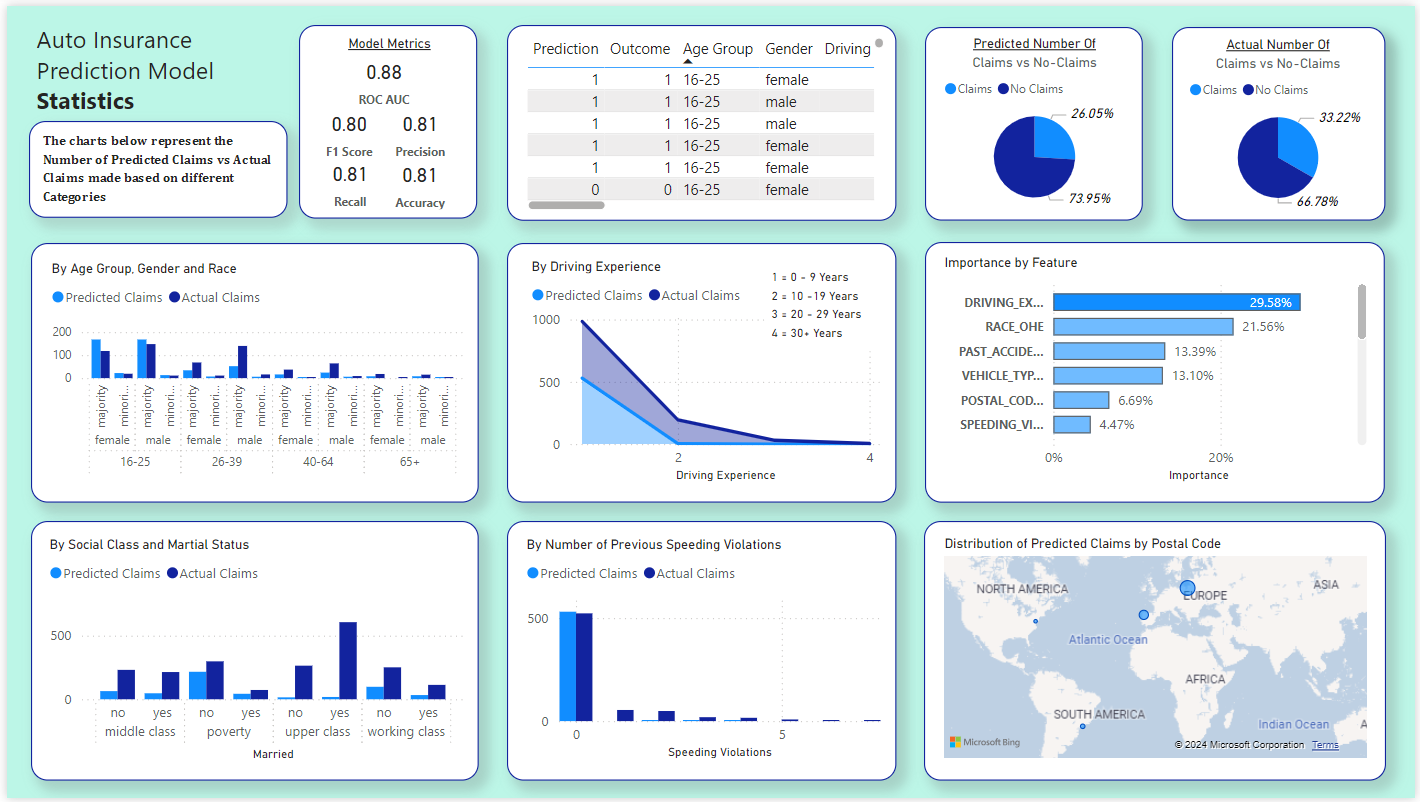

This screenshot's page, from the dashboard's own definition file:
{"tool":"powerbi","page":{"name":"Report","canvas":[1280,720],"ordinal":0},"visuals":[{"type":"shape","box":[20.3,104.9,234.6,88],"z":0},{"type":"shape","box":[454.5,16.9,354.1,178.2],"z":1000},{"type":"shape","box":[1059,19.2,194,175.9],"z":2000},{"type":"shape","box":[834.5,19.2,198.5,175.9],"z":3000},{"type":"shape","box":[454.5,215.4,354.1,235.7],"z":4000},{"type":"shape","box":[454.5,468,354.1,235.7],"z":5000},{"type":"shape","box":[21.4,215.4,407.1,235.7],"z":6000},{"type":"shape","box":[21.4,468,407.1,235.7],"z":7000},{"type":"shape","box":[265.8,17,161.9,175.9],"z":8000},{"type":"shape","box":[833.4,468,419.5,235.7],"z":9000},{"type":"shape","box":[834.5,214.3,418.4,236.8],"z":10000},{"type":"tableEx","fields":{"Values":["Sum(predictions table.prediction)","Sum(predictions table.OUTCOME)","predictions_table.AGE","predictions_table.GENDER","predictions_table.DRIVING_EXPERIENCE","predictions_table.PAST_ACCIDENTS","predictions_table.SPEEDING_VIOLATIONS","predictions_table.DUIS","predictions_table.ANNUAL_MILEAGE","predictions_table.EDUCATION","predictions_table.INCOME","predictions_table.CREDIT_SCORE"]},"box":[466.9,23.7,334.9,166.9],"z":11000},{"type":"pieChart","title":"Predicted Number Of","fields":{"Y":["predictions_table.Count_1_pred","predictions_table.Count_0_pred"]},"box":[846.9,27.1,173.7,163.5],"z":12000},{"type":"pieChart","title":"Actual Number Of ","fields":{"Y":["predictions.Count_1s","predictions.Count_0s"]},"box":[1070.2,28,170.9,162.9],"z":13000},{"type":"clusteredBarChart","title":"Importance by Feature","fields":{"Category":["feature importance.Feature"],"Y":["Divide(Sum(feature importance.Importance), ScopedEval(Sum(feature importance.Importance), []))"]},"box":[846.9,226.7,393.6,210.9],"z":14000},{"type":"clusteredColumnChart","title":"By Age Group, Gender and Race","fields":{"Category":["predictions_table.AGE","predictions_table.GENDER","predictions_table.RACE"],"Y":["Sum(predictions_table.prediction)","Sum(predictions_table.OUTCOME)"]},"box":[35,231.2,385.7,206.4],"z":15000},{"type":"map","title":"Distribution of Predicted Claims by Postal Code","fields":{"Size":["Sum(predictions_table.prediction)"],"Category":["predictions_table.POSTAL_CODE"]},"box":[847.3,481.8,393.6,207.3],"z":16000},{"type":"stackedAreaChart","title":"By Driving Experience","fields":{"Category":["predictions_table.DRIVING_EXPERIENCE"],"Y":["Sum(predictions_table.prediction)","Sum(predictions_table.OUTCOME)"]},"box":[471.8,230,327.3,207.3],"z":17000},{"type":"clusteredColumnChart","title":"By Social Class and Martial Status","fields":{"Category":["predictions_table.INCOME","predictions_table.MARRIED"],"Y":["Sum(predictions_table.prediction)","CountNonNull(predictions_table.OUTCOME)"]},"box":[33.8,482.7,386.8,207.5],"z":18000},{"type":"clusteredColumnChart","title":"By Number of Previous Speeding Violations","fields":{"Y":["Sum(predictions_table.prediction)","Sum(predictions_table.OUTCOME)"],"Category":["predictions_table.SPEEDING_VIOLATIONS"]},"box":[467.3,482.7,331.8,206.4],"z":19000},{"type":"card","fields":{"Values":["Sum(metrics.Accuracy)"]},"box":[335.7,132.9,79.9,57],"z":20000},{"type":"card","fields":{"Values":["Sum(metrics.Precision)"]},"box":[337.7,86.9,74.9,55],"z":21000},{"type":"card","fields":{"Values":["Sum(metrics.Recall)"]},"box":[268.8,132.9,85.9,55],"z":22000},{"type":"card","fields":{"Values":["Sum(metrics.F1_Score)"]},"box":[273.8,86.9,74.9,55],"z":23000},{"type":"card","fields":{"Values":["Sum(metrics.ROC_AUC)"]},"box":[272.8,37,139.9,61],"z":24000},{"type":"textbox","box":[21.4,10.1,244.7,95.9],"z":25000},{"type":"textbox","box":[27.3,107.3,220,78.2],"z":26000},{"type":"textbox","box":[297.8,19,98.9,27],"z":27000},{"type":"textbox","box":[690,230.9,109.1,82.7],"z":28000}]}

Visuals, with their boxes in screenshot pixels (x1, y1, x2, y2), scaled from the page's 1280x720 canvas onto the 1420x802 screenshot:
shape: {"x1": 23, "y1": 117, "x2": 283, "y2": 215}
shape: {"x1": 504, "y1": 19, "x2": 897, "y2": 217}
shape: {"x1": 1175, "y1": 21, "x2": 1390, "y2": 217}
shape: {"x1": 926, "y1": 21, "x2": 1146, "y2": 217}
shape: {"x1": 504, "y1": 240, "x2": 897, "y2": 502}
shape: {"x1": 504, "y1": 521, "x2": 897, "y2": 784}
shape: {"x1": 24, "y1": 240, "x2": 475, "y2": 502}
shape: {"x1": 24, "y1": 521, "x2": 475, "y2": 784}
shape: {"x1": 295, "y1": 19, "x2": 474, "y2": 215}
shape: {"x1": 925, "y1": 521, "x2": 1390, "y2": 784}
shape: {"x1": 926, "y1": 239, "x2": 1390, "y2": 502}
tableEx - Sum(predictions table.prediction) x Sum(predictions table.OUTCOME): {"x1": 518, "y1": 26, "x2": 889, "y2": 212}
"Predicted Number Of" pieChart: {"x1": 940, "y1": 30, "x2": 1132, "y2": 212}
"Actual Number Of " pieChart: {"x1": 1187, "y1": 31, "x2": 1377, "y2": 213}
"Importance by Feature" clusteredBarChart: {"x1": 940, "y1": 253, "x2": 1376, "y2": 487}
"By Age Group, Gender and Race" clusteredColumnChart: {"x1": 39, "y1": 258, "x2": 467, "y2": 487}
"Distribution of Predicted Claims by Postal Code" map: {"x1": 940, "y1": 537, "x2": 1377, "y2": 768}
"By Driving Experience" stackedAreaChart: {"x1": 523, "y1": 256, "x2": 887, "y2": 487}
"By Social Class and Martial Status" clusteredColumnChart: {"x1": 37, "y1": 538, "x2": 467, "y2": 769}
"By Number of Previous Speeding Violations" clusteredColumnChart: {"x1": 518, "y1": 538, "x2": 887, "y2": 768}
card - Sum(metrics.Accuracy): {"x1": 372, "y1": 148, "x2": 461, "y2": 212}
card - Sum(metrics.Precision): {"x1": 375, "y1": 97, "x2": 458, "y2": 158}
card - Sum(metrics.Recall): {"x1": 298, "y1": 148, "x2": 393, "y2": 209}
card - Sum(metrics.F1_Score): {"x1": 304, "y1": 97, "x2": 387, "y2": 158}
card - Sum(metrics.ROC_AUC): {"x1": 303, "y1": 41, "x2": 458, "y2": 109}
textbox: {"x1": 24, "y1": 11, "x2": 295, "y2": 118}
textbox: {"x1": 30, "y1": 120, "x2": 274, "y2": 207}
textbox: {"x1": 330, "y1": 21, "x2": 440, "y2": 51}
textbox: {"x1": 765, "y1": 257, "x2": 887, "y2": 349}
